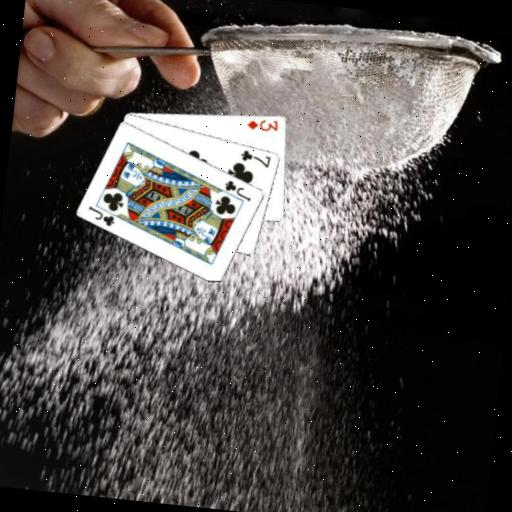3D: (244, 114, 281, 134)
7C: (237, 146, 274, 170)
JC: (221, 176, 255, 203), (84, 202, 118, 229)
